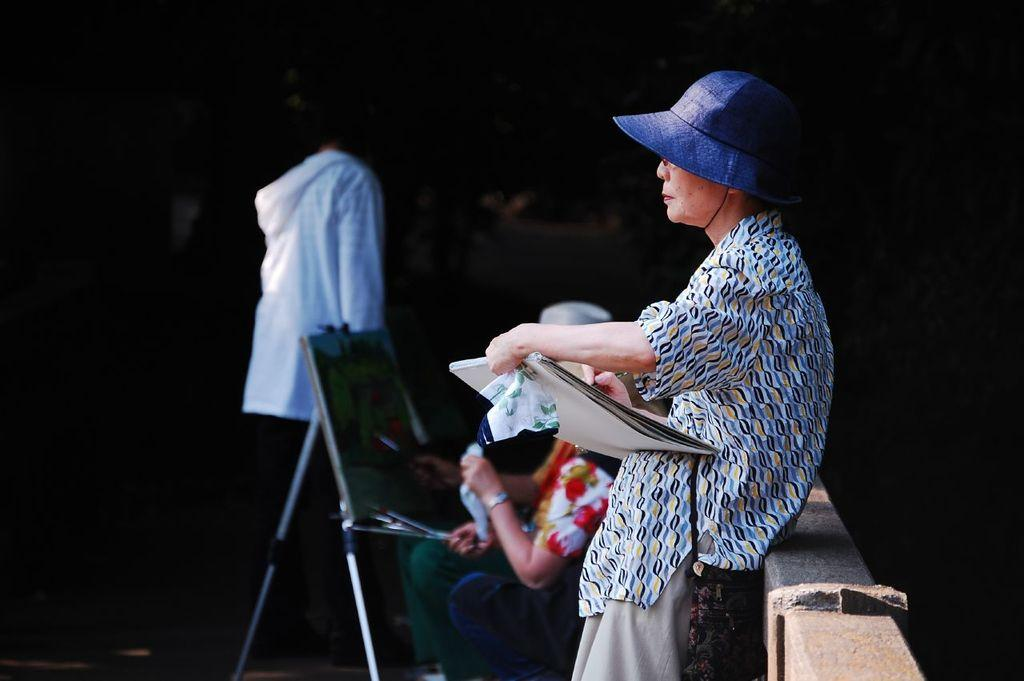Hat: (624, 73, 784, 179)
